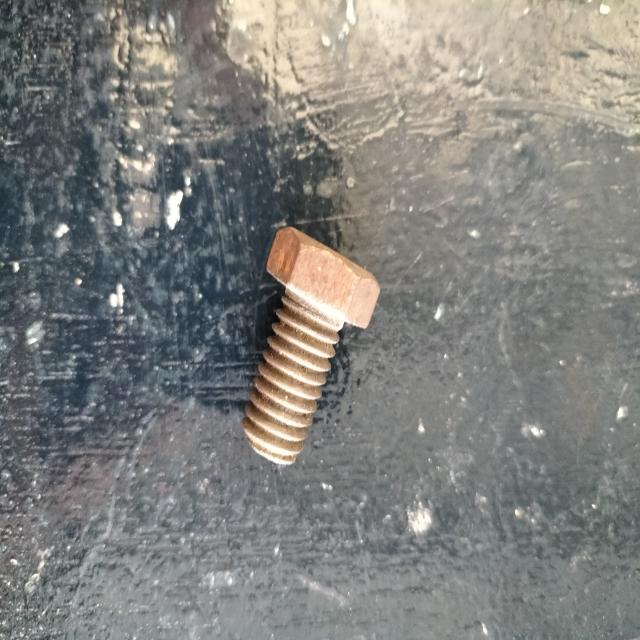bolt: (242, 227, 380, 464)
